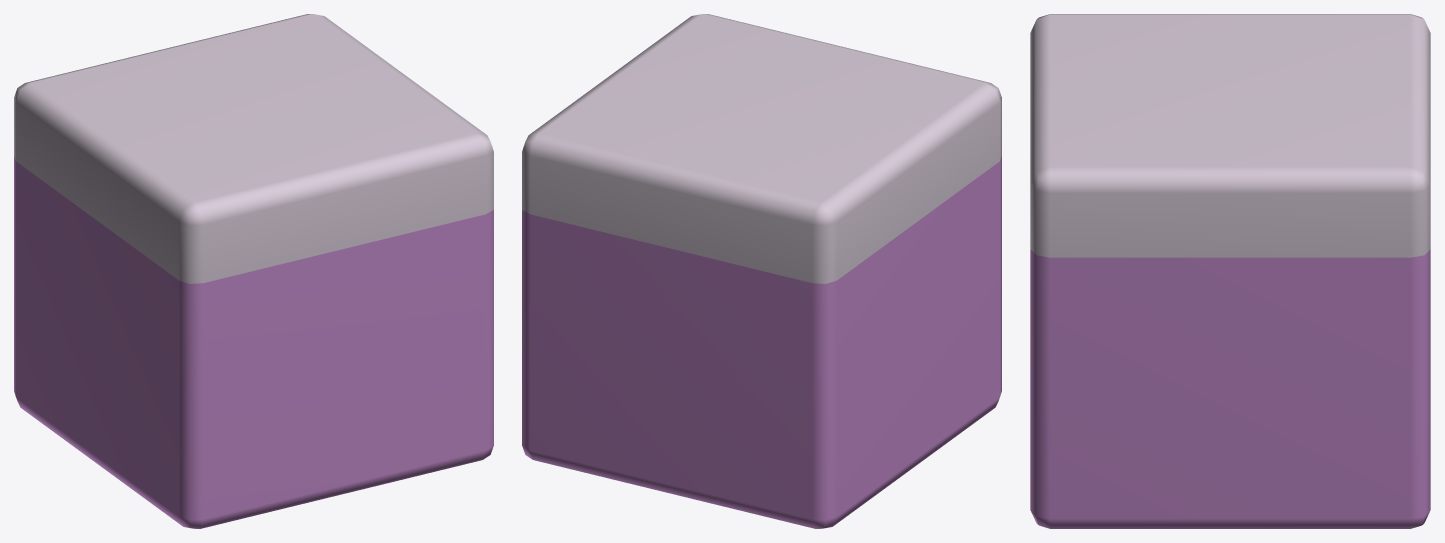
The picture shows the model from 3 angles, left to right: view 1: azimuth 30°, elevation 25°; view 2: azimuth 150°, elevation 25°; view 3: azimuth 270°, elevation 25°; orthographic projection. The views are drawn at different scales.
Visible parts, largest first — view 1: box; view 2: box; view 3: box.
Boxes of the visible parts, x1,y1,x2,y2 form: box: (14, 14, 493, 528); box: (522, 14, 1001, 528); box: (1030, 14, 1430, 528).
Size of the model in its own units: 398 by 397 by 399.
